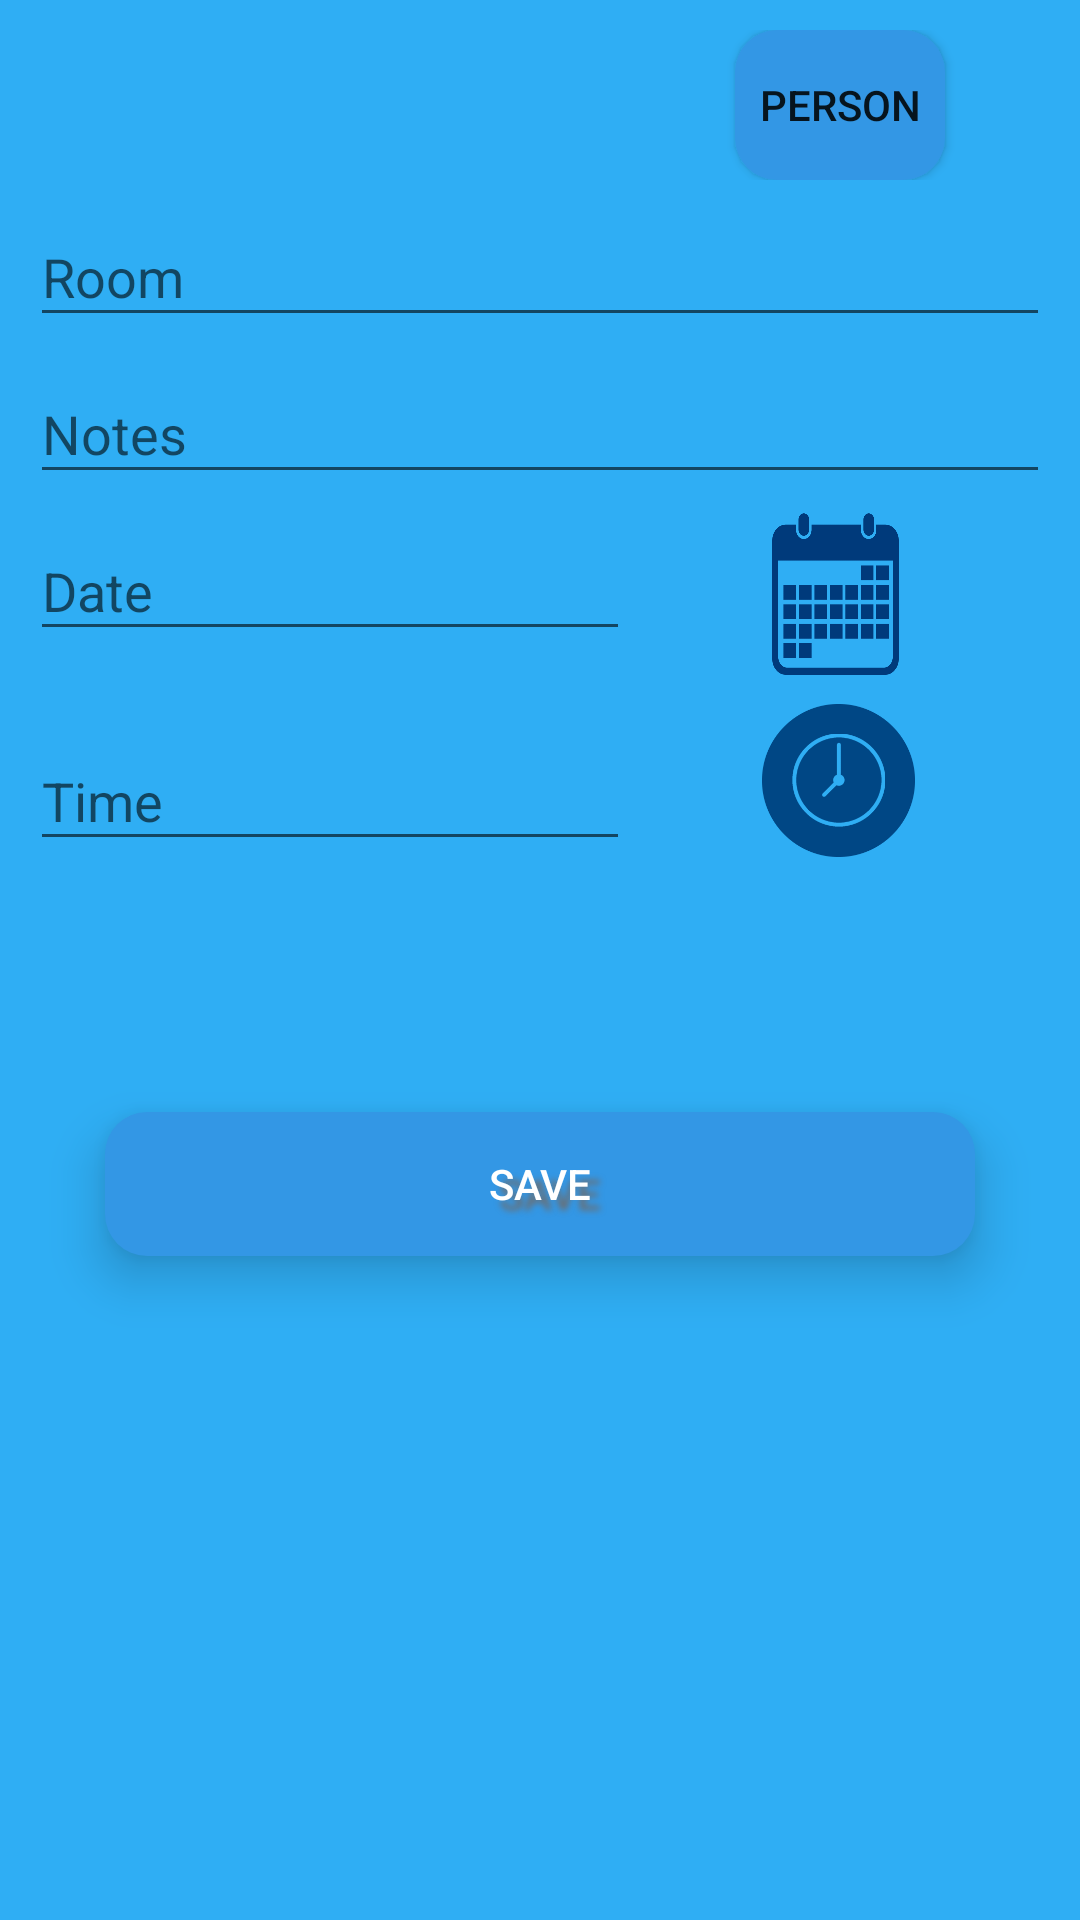

Point at icon controls on the screen. Image size 1080px×1920px, points as (x=x, y=y).
calendarblue: (x=835, y=594)
